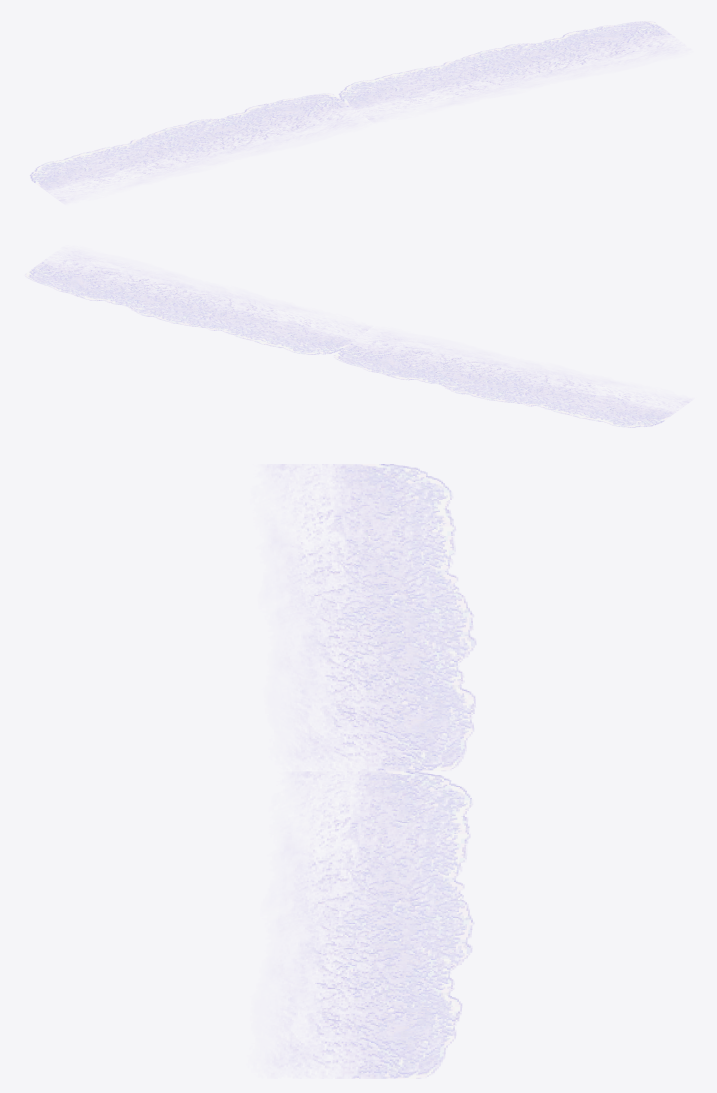
Rendered from stage-palm-p5-11.glb.
3 views of the same model, one above another, from view 1: azimuth 30°, elevation 25°; view 2: azimuth 150°, elevation 25°; view 3: azimuth 270°, elevation 25° (orthographic). The views are drawn at different scales.
Bounding box in the file's own units: 96.5 × 0 × 17.28.
1 material, 1 textured.
